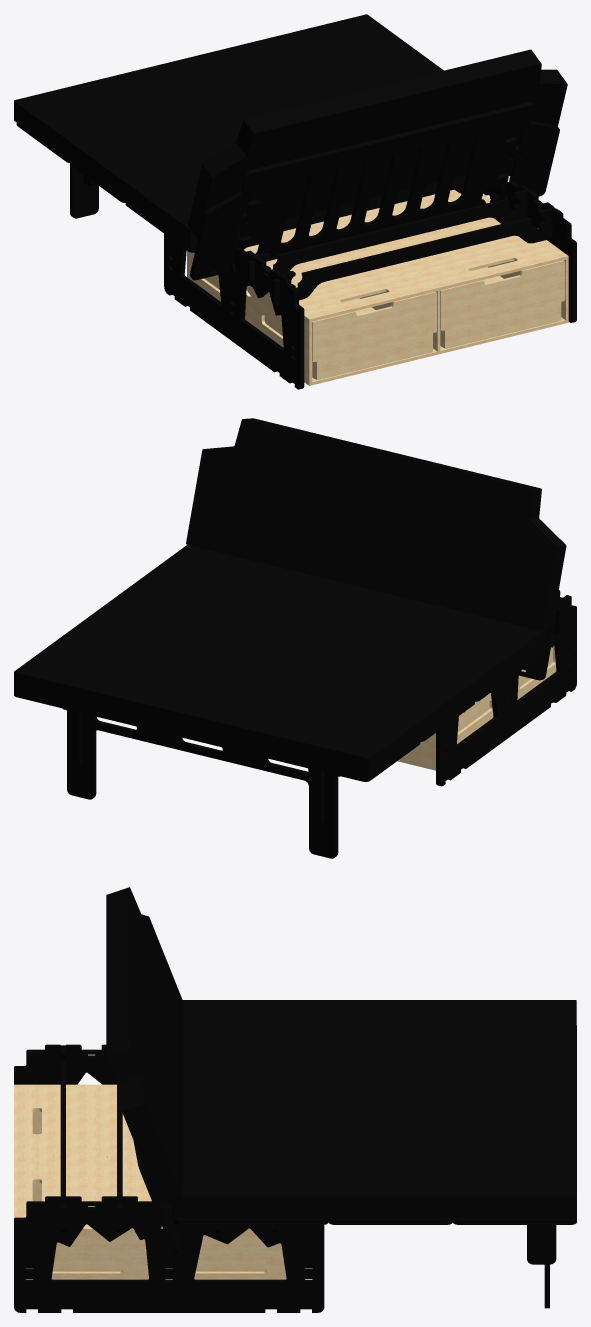
Rendered from Cuillin_expedition_detente.glb.
3 renders of one model, top to bottom at view 1: azimuth 30°, elevation 25°; view 2: azimuth 150°, elevation 25°; view 3: azimuth 270°, elevation 25°, orthographic. The views are drawn at different scales.
Size of the model in its own units: 1.51 by 0.9563 by 1.81.
2 materials, 1 textured.
